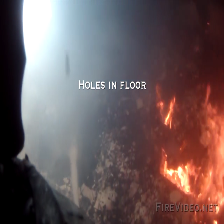fire_h: (161, 148, 197, 195)
fire_l: (165, 98, 176, 126), (215, 192, 224, 213), (157, 101, 164, 108), (209, 170, 212, 178), (213, 220, 218, 224)
